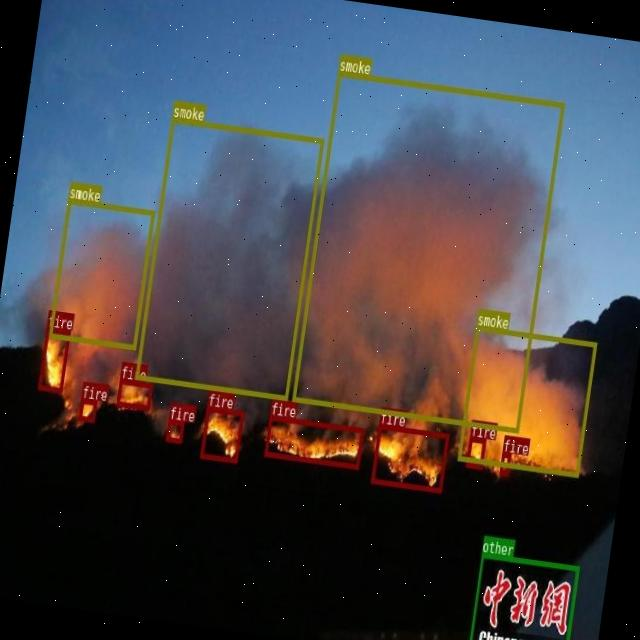fire: (264, 415, 364, 469), (371, 423, 448, 492), (200, 406, 243, 463), (38, 327, 70, 392), (116, 379, 152, 410), (465, 436, 486, 468), (78, 398, 97, 422), (166, 419, 184, 442), (499, 452, 511, 476)
smoke: (292, 70, 564, 432), (135, 117, 323, 400), (456, 326, 596, 476), (48, 198, 155, 348)
